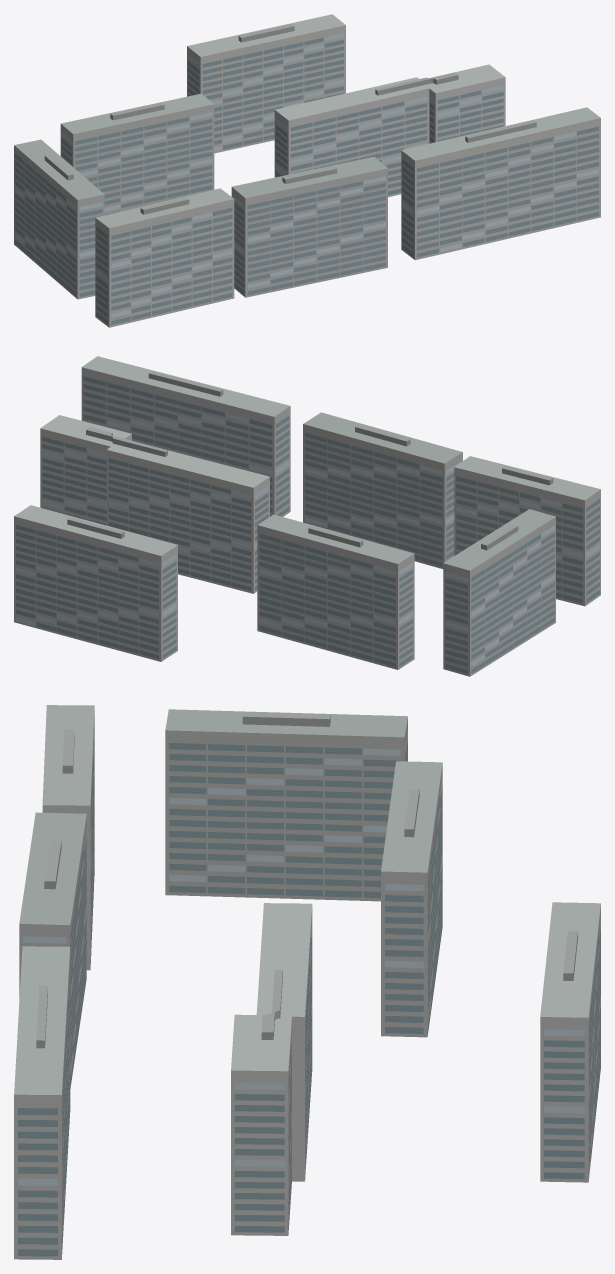
The model's file is apt-a13922907.glb.
3 views of the same model, one above another, from view 1: azimuth 30°, elevation 25°; view 2: azimuth 150°, elevation 25°; view 3: azimuth 270°, elevation 25° (orthographic). The views are drawn at different scales.
Visible parts, largest first — view 1: apt-a13922907; view 2: apt-a13922907; view 3: apt-a13922907.
Part boxes in pixels (x1,y1,x2,y2): apt-a13922907: [14, 14, 600, 327]; apt-a13922907: [14, 356, 600, 676]; apt-a13922907: [14, 705, 600, 1259].
Size of the model in its own units: 199 by 41 by 126.
